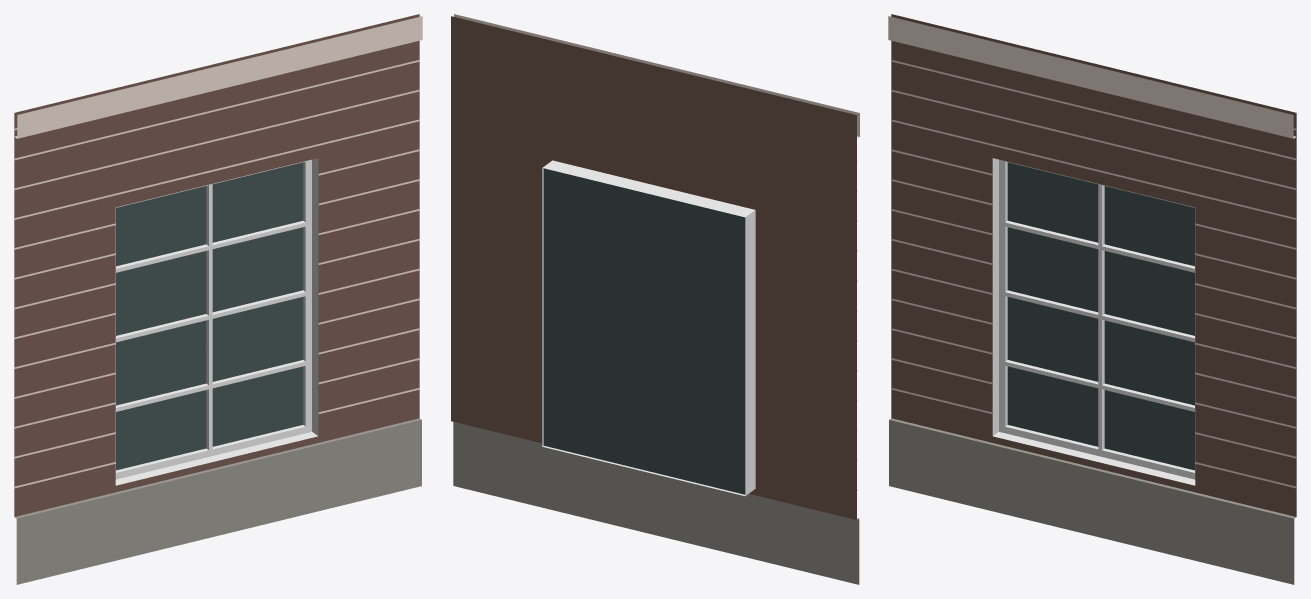
Rendered from base-w3_close.fbx.
3 renders of one model, left to right at view 1: azimuth 30°, elevation 25°; view 2: azimuth 150°, elevation 25°; view 3: azimuth 330°, elevation 25°, orthographic.
Parts seen in each view (by area): view 1: a2000s3/600/base-w3_close; view 2: a2000s3/600/base-w3_close; view 3: a2000s3/600/base-w3_close.
Part boxes in pixels (x1,y1,x2,y2): a2000s3/600/base-w3_close: [14, 14, 422, 584]; a2000s3/600/base-w3_close: [451, 14, 859, 584]; a2000s3/600/base-w3_close: [888, 14, 1296, 584].
Size of the model in its own units: 3.2 by 3.55 by 0.18.
